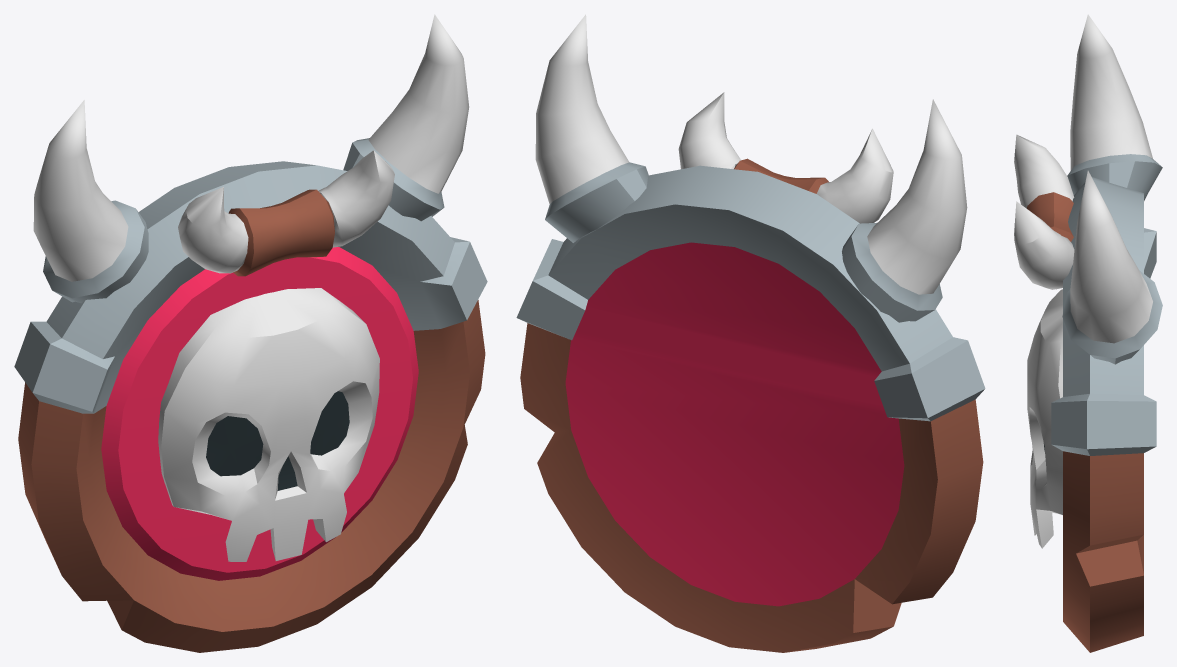
File: orc_shield.gltf.glb
The picture shows the model from 3 angles, left to right: view 1: azimuth 30°, elevation 25°; view 2: azimuth 150°, elevation 25°; view 3: azimuth 270°, elevation 25°; orthographic projection. The views are drawn at different scales.
Parts seen in each view (by area): view 1: orc_shield; view 2: orc_shield; view 3: orc_shield.
Part boxes in pixels (x1=…): orc_shield: x1=14, y1=14, x2=487, y2=652; orc_shield: x1=516, y1=14, x2=985, y2=652; orc_shield: x1=1014, y1=14, x2=1162, y2=652.
Bounding box in the file's own units: 0.6937 × 0.8608 × 0.2151.
